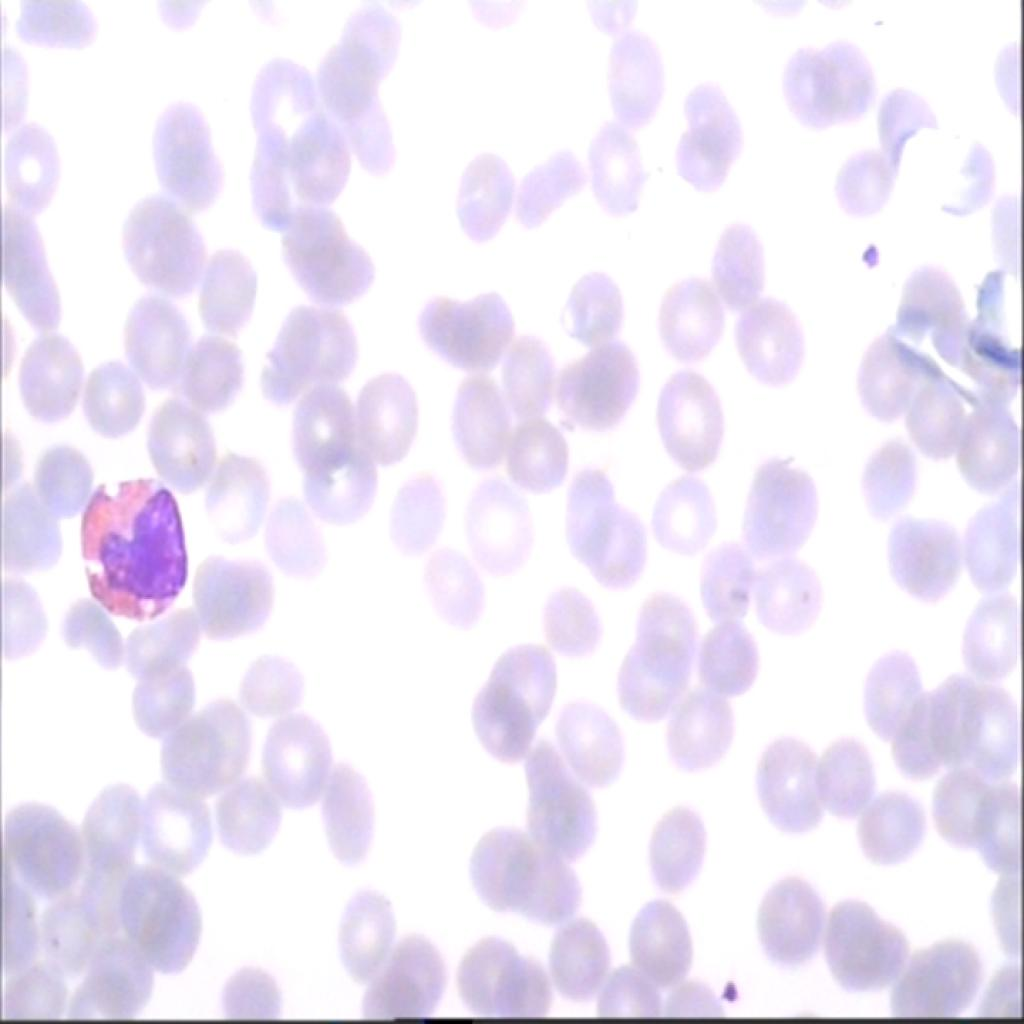Eosinofil: (68, 460, 191, 628)
Platelet: (708, 965, 741, 1017), (855, 234, 882, 274)
